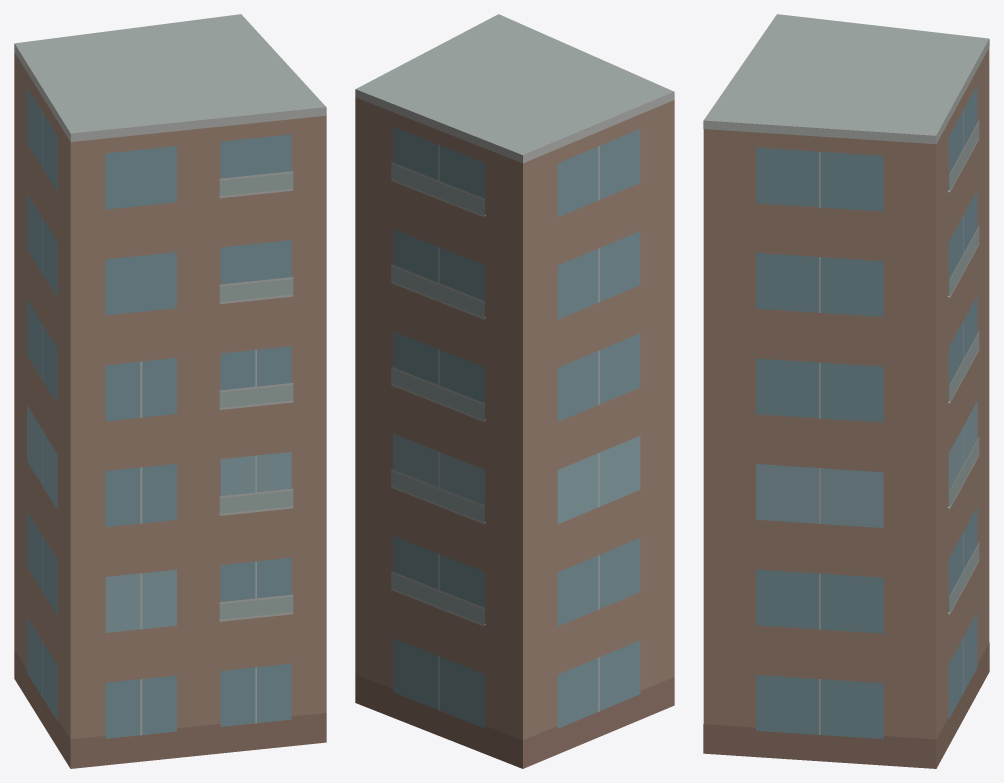
File: survey-upis-32584192.glb
3 views of the same model, side by side, from view 1: azimuth 30°, elevation 25°; view 2: azimuth 150°, elevation 25°; view 3: azimuth 270°, elevation 25° (orthographic). The views are drawn at different scales.
Parts seen in each view (by area): view 1: survey-upis-32584192.tmp; view 2: survey-upis-32584192.tmp; view 3: survey-upis-32584192.tmp.
Part boxes in pixels (x1,y1,x2,y2): survey-upis-32584192.tmp: (14, 14, 326, 768); survey-upis-32584192.tmp: (355, 14, 674, 768); survey-upis-32584192.tmp: (703, 14, 989, 768).
Size of the model in its own units: 7.56 by 18.3 by 7.5.
